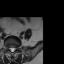CCS_normal: (11, 45, 13, 53)
LFS_severe_stenosis: (15, 45, 17, 50)
LLS_normal: (13, 46, 15, 52)
RFS_severe_stenosis: (7, 45, 9, 50)
RLS_normal: (9, 46, 11, 52)
